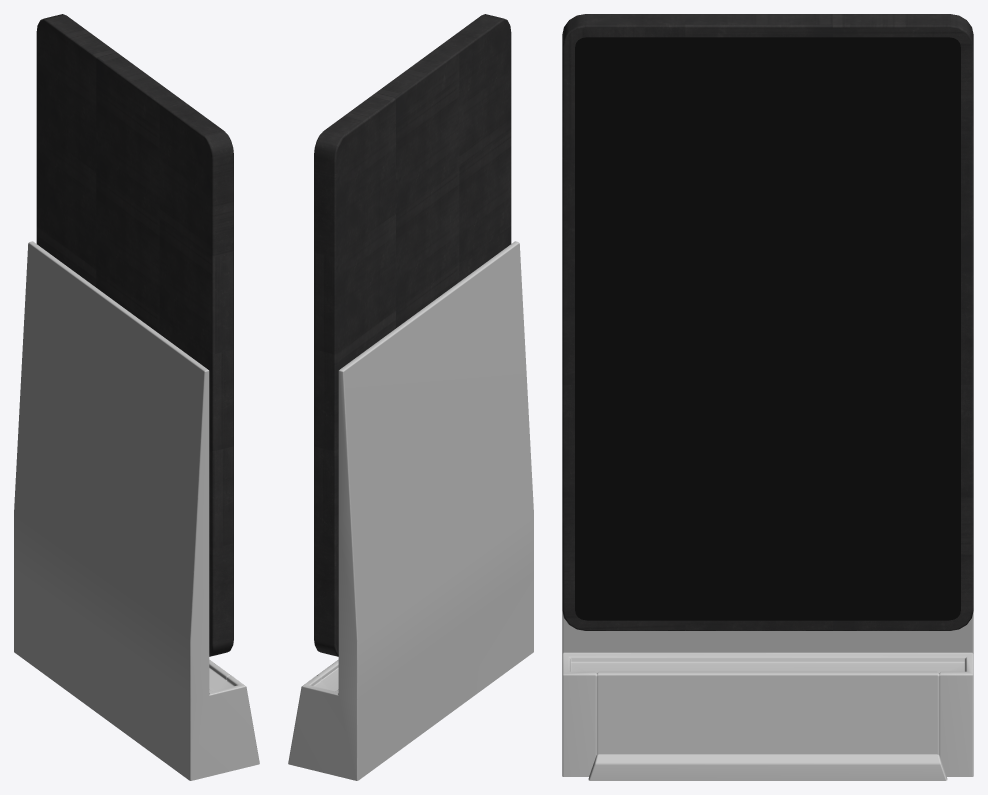
File: Screen_1.fbx
3 views of the same model, side by side, from view 1: azimuth 30°, elevation 25°; view 2: azimuth 150°, elevation 25°; view 3: azimuth 270°, elevation 25° (orthographic). The views are drawn at different scales.
Visible parts, largest first — view 1: Cube.245; view 2: Cube.245; view 3: Cube.245.
Boxes of the visible parts, box(x1,y1,x2,y2) form: Cube.245: box(14, 14, 259, 780); Cube.245: box(288, 14, 533, 780); Cube.245: box(562, 14, 973, 780).
Size of the model in its own units: 68.96 by 540 by 273.
